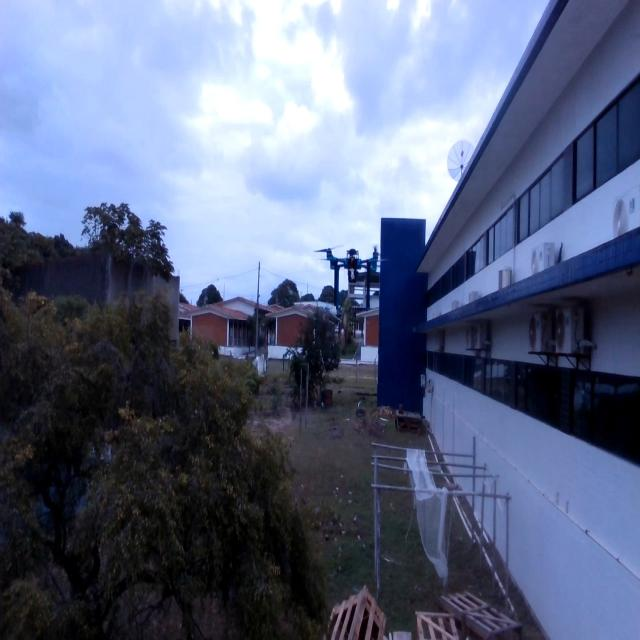-uav-: (314, 233, 384, 336)
